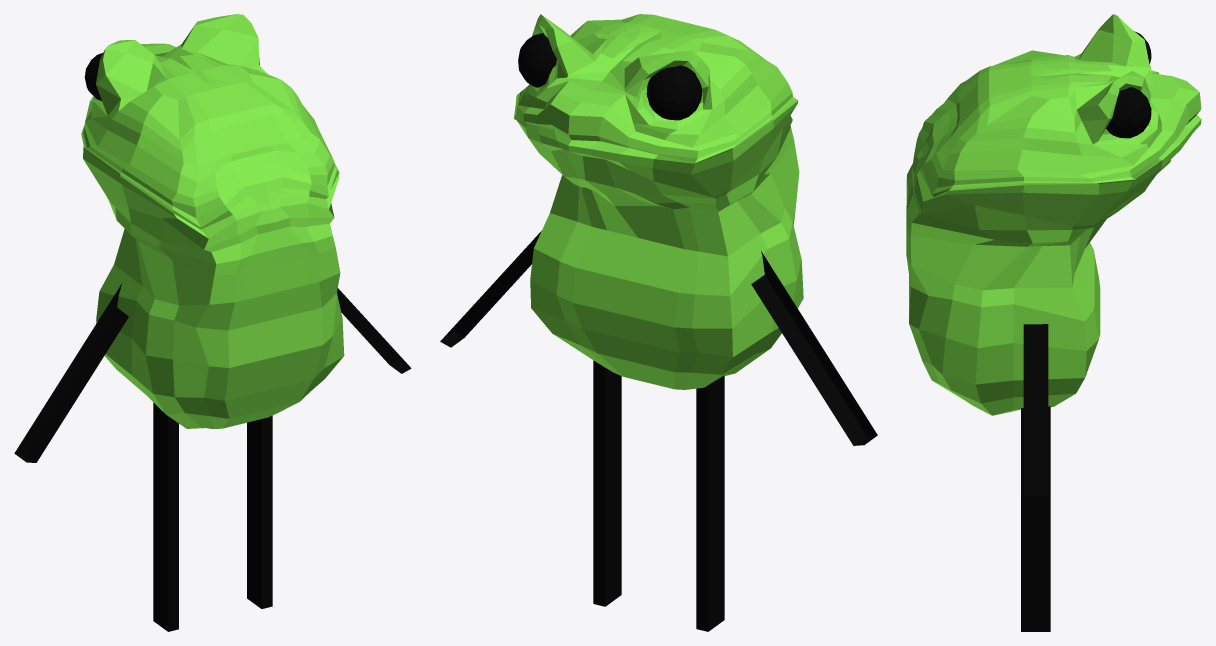
File: misterslender.glb
The picture shows the model from 3 angles, left to right: view 1: azimuth 30°, elevation 25°; view 2: azimuth 150°, elevation 25°; view 3: azimuth 270°, elevation 25°; orthographic projection. The views are drawn at different scales.
Parts seen in each view (by area): view 1: Cube, Cube.002, Cube.001; view 2: Cube, Cube.002, Cube.001, Sphere; view 3: Cube, Cube.002, Cube.001, Sphere.
Part boxes in pixels (bbox=[...]): Cube: bbox=[81, 14, 344, 428]; Cube.002: bbox=[153, 402, 272, 631]; Cube.001: bbox=[14, 283, 411, 462]; Cube: bbox=[514, 14, 803, 389]; Cube.002: bbox=[593, 360, 724, 631]; Cube.001: bbox=[440, 230, 877, 445]; Sphere: bbox=[518, 33, 702, 120]; Cube: bbox=[906, 14, 1201, 415]; Cube.002: bbox=[1021, 406, 1050, 631]; Cube.001: bbox=[1023, 324, 1048, 496]; Sphere: bbox=[1106, 31, 1151, 138].
Size of the model in its own units: 6.24 by 8.59 by 4.11.
